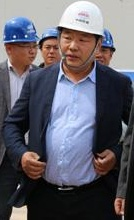hard-hat: (3, 16, 39, 44)
